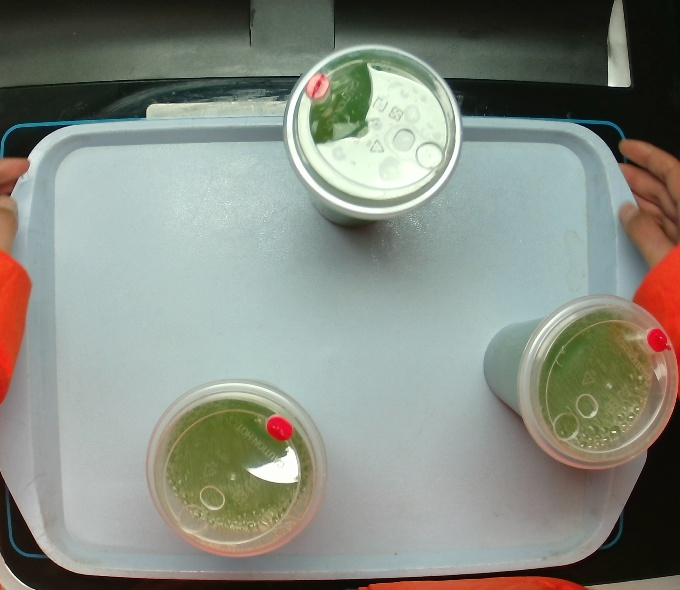wcq-HuangGuaZhi: (481, 291, 680, 471), (280, 41, 465, 230), (144, 376, 329, 561)
